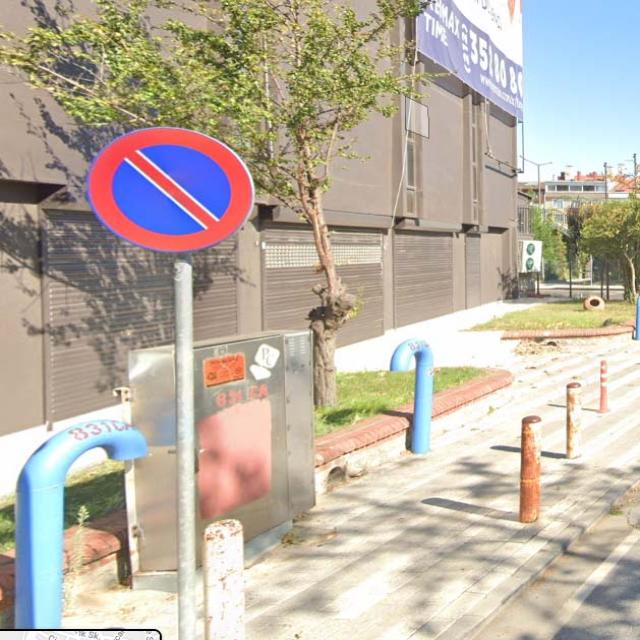parkyasak: (86, 128, 256, 256)
